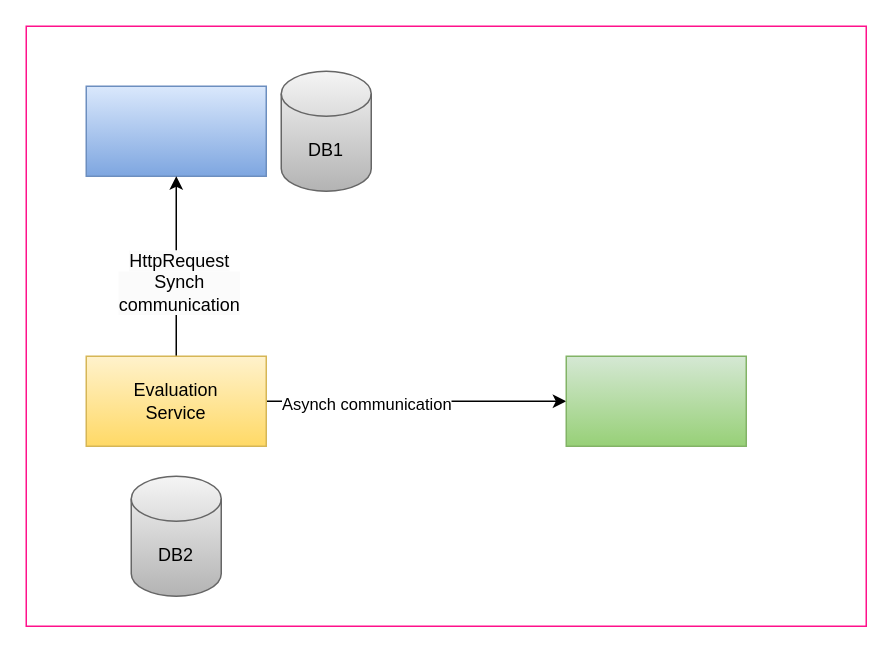
Image size: 893x653. Some labels were removed from this diagram. Here are the shapes that lost their labels. From the top down, the centre of each, then its label:
At pixel 175 130: "Management Service".
At pixel 655 400: "Notification Service".
